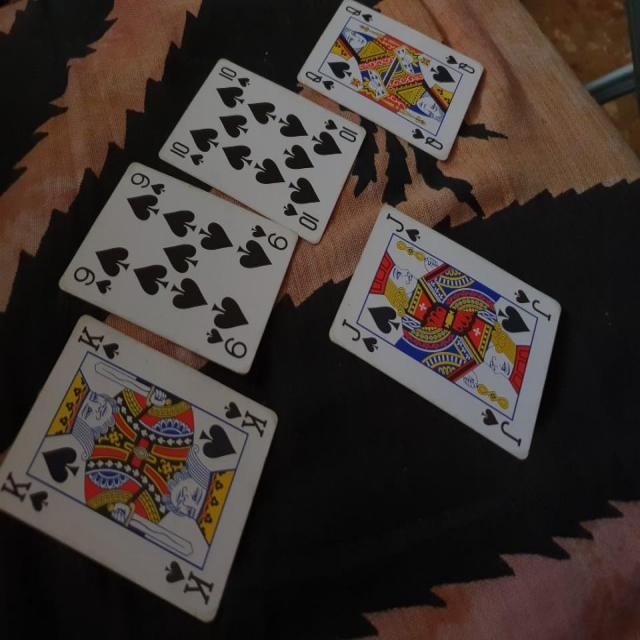10 Spades: (157, 50, 372, 245)
9 Spades: (50, 156, 299, 378)
J Spades: (328, 203, 566, 473)
K Spades: (1, 317, 288, 640)
Q Spades: (292, 2, 487, 164)
